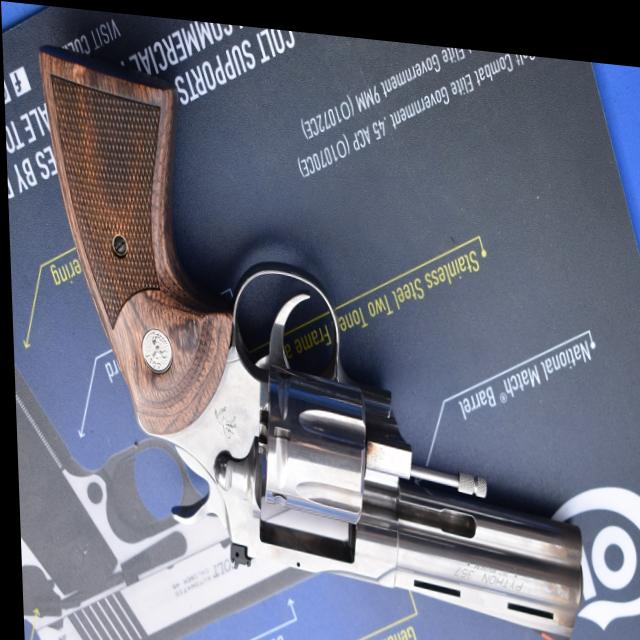handgun: (29, 36, 591, 640)
